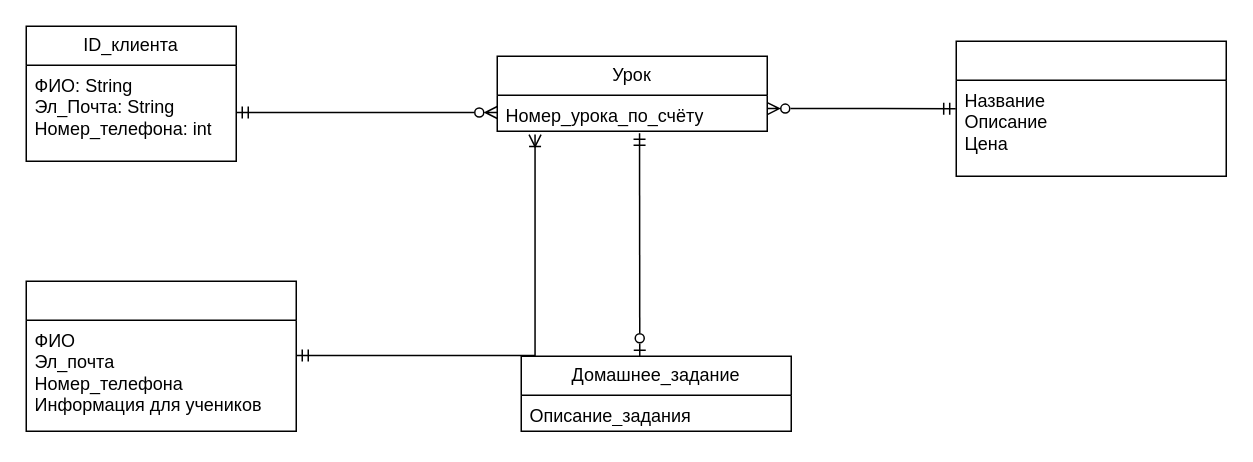
Some shapes in this 1253 by 462 pixel diagram are drawn without their labels. The box of each missing label's shape, as (x1, y1, x2, y2) in pixels:
ID_Курса: (955, 40, 1226, 176)
ID_Преподавателя: (25, 280, 296, 431)
